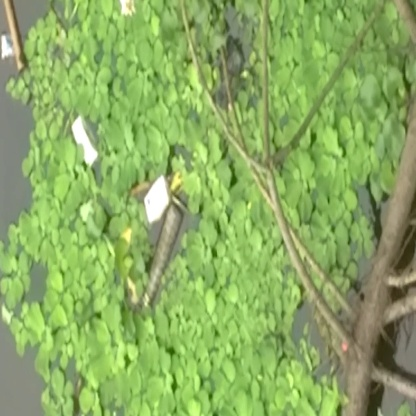branch: (251, 149, 361, 343)
